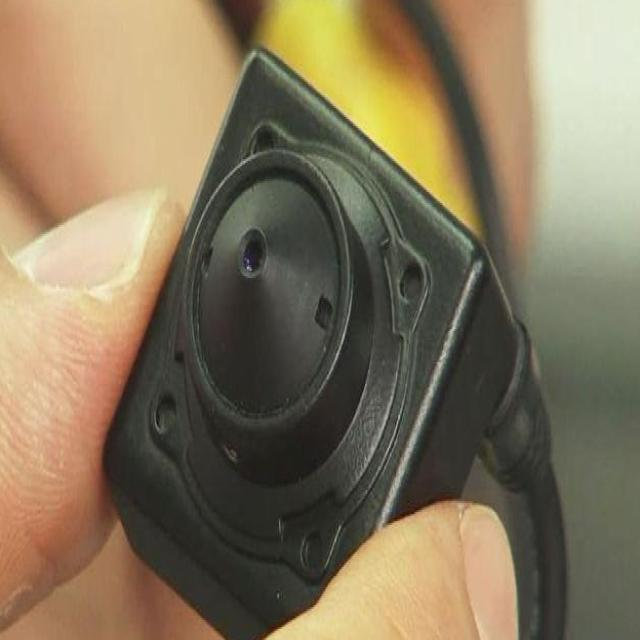hidden camera: (200, 174, 337, 409)
